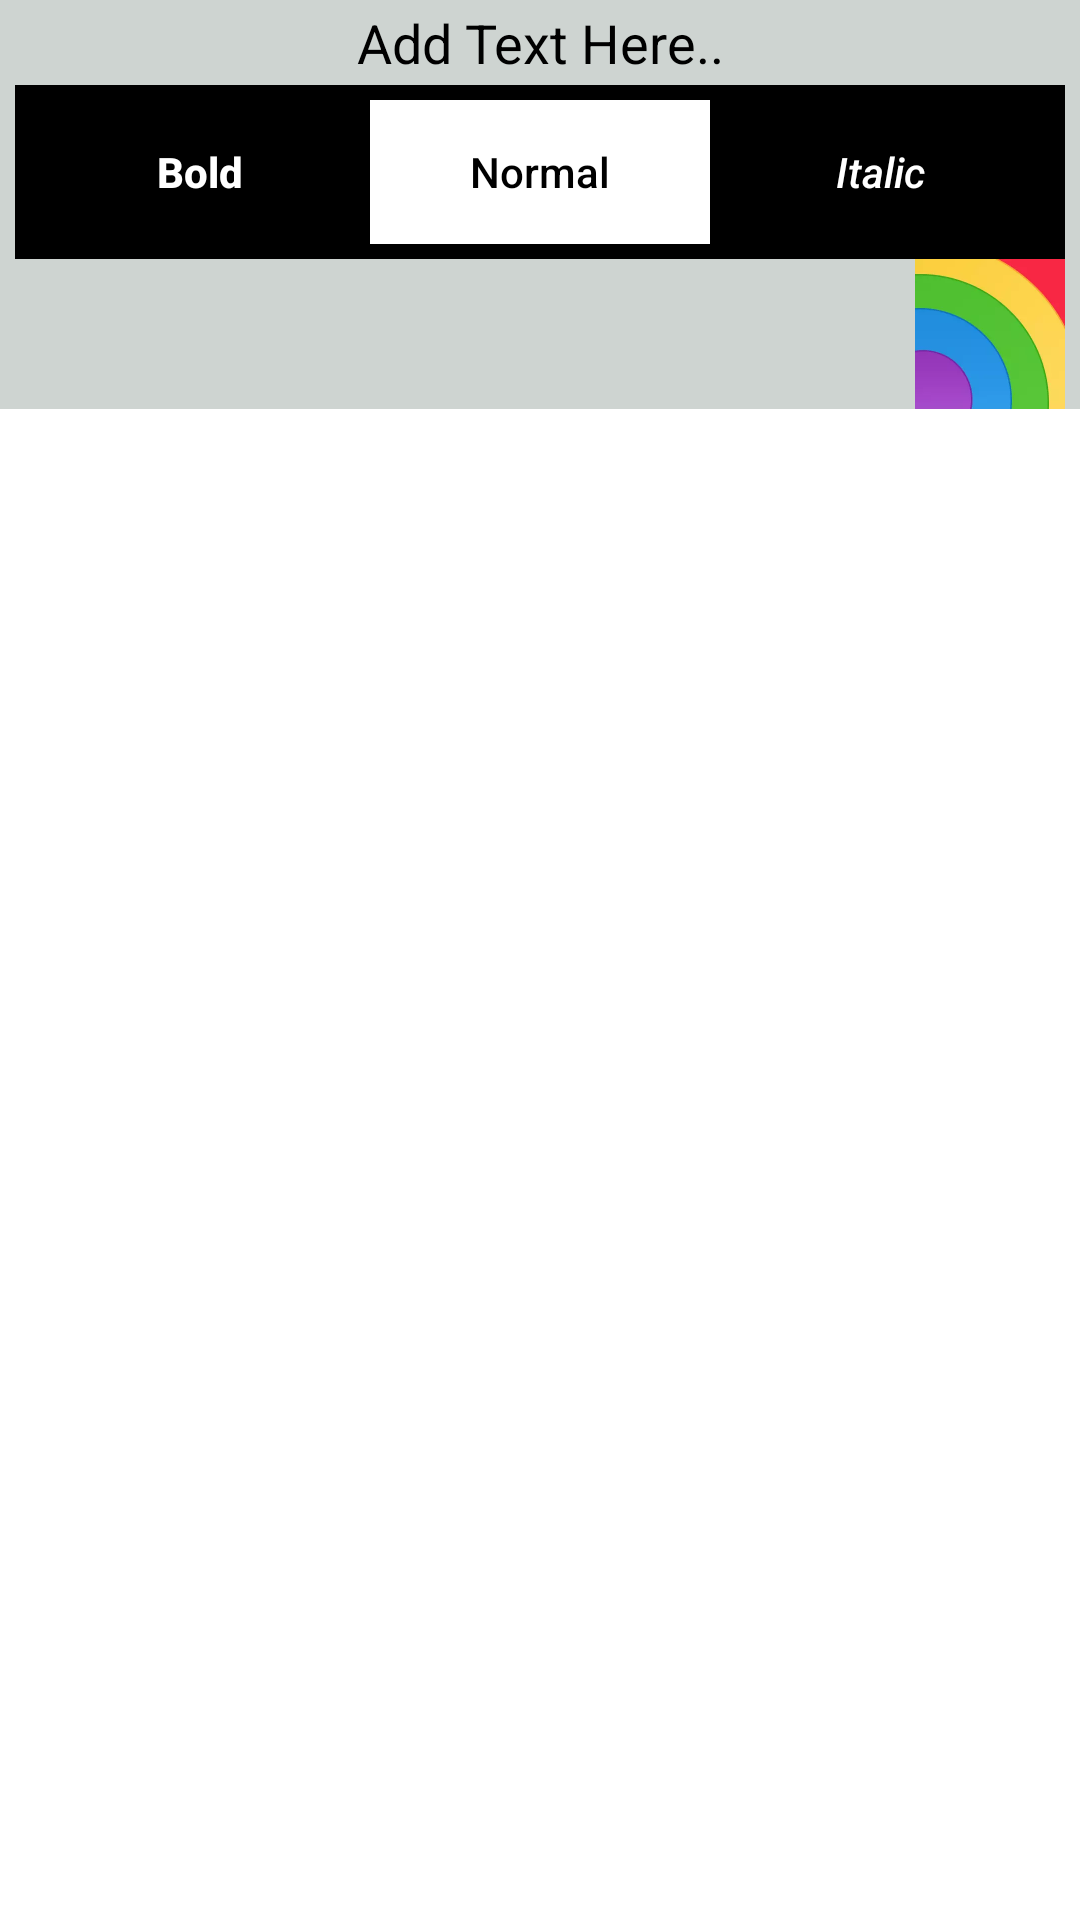

Where to tap for icons on this 1080px x 1920px app screen, as (x=x, y=y):
colorpicker: (x=990, y=334)
